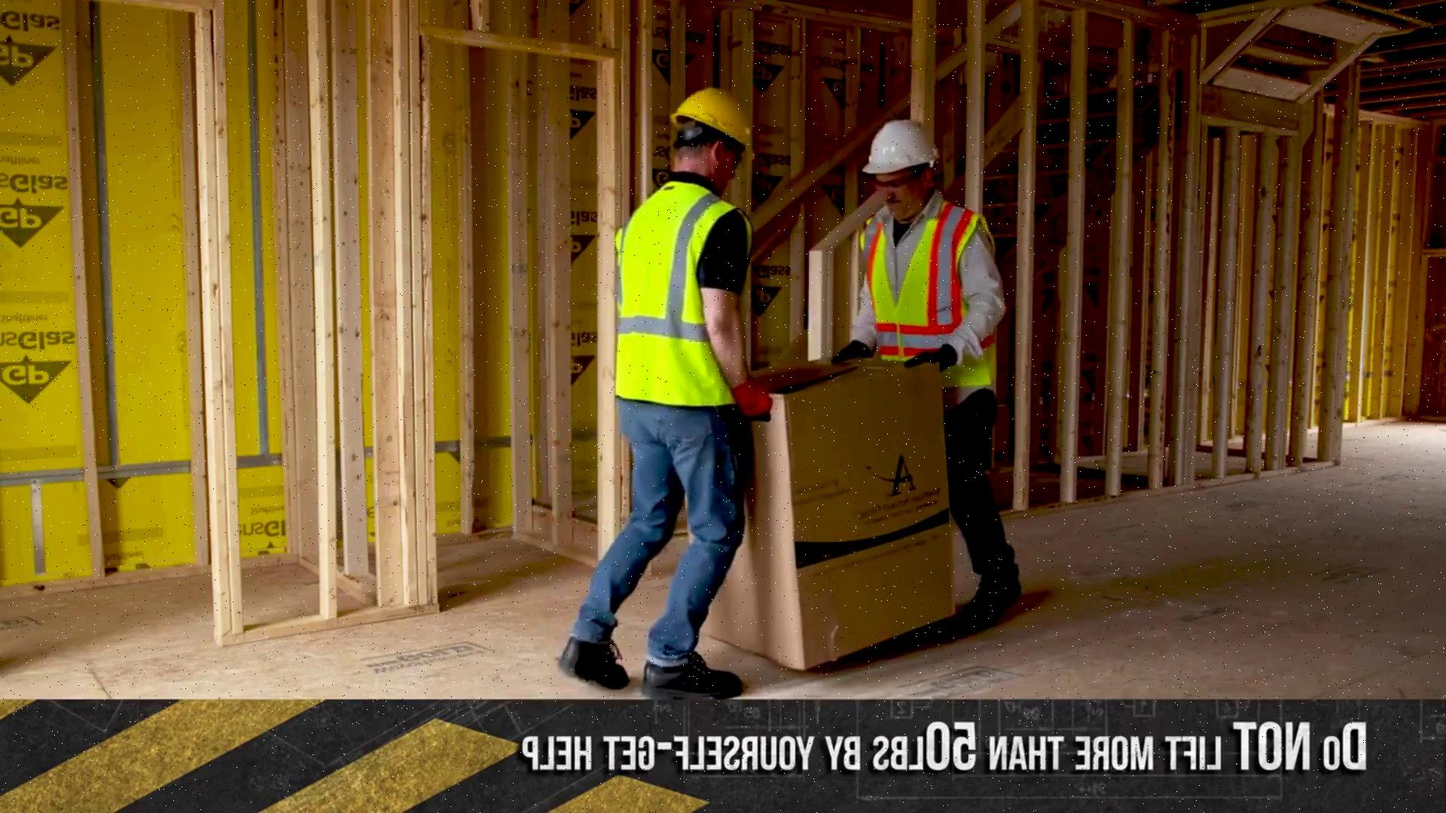Hard_hat: (665, 79, 766, 149), (856, 112, 941, 173), (956, 565, 1030, 624)
Vest: (594, 169, 744, 420), (863, 191, 991, 391)
